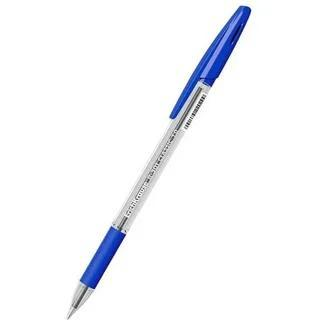pen-pencil: (67, 3, 256, 319)
